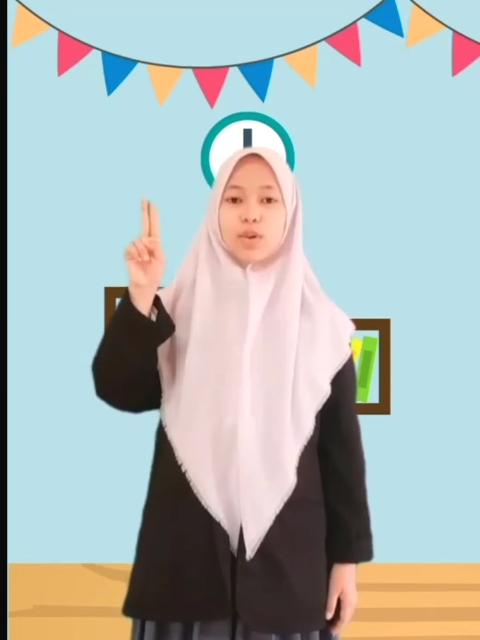U: (124, 195, 170, 293)
